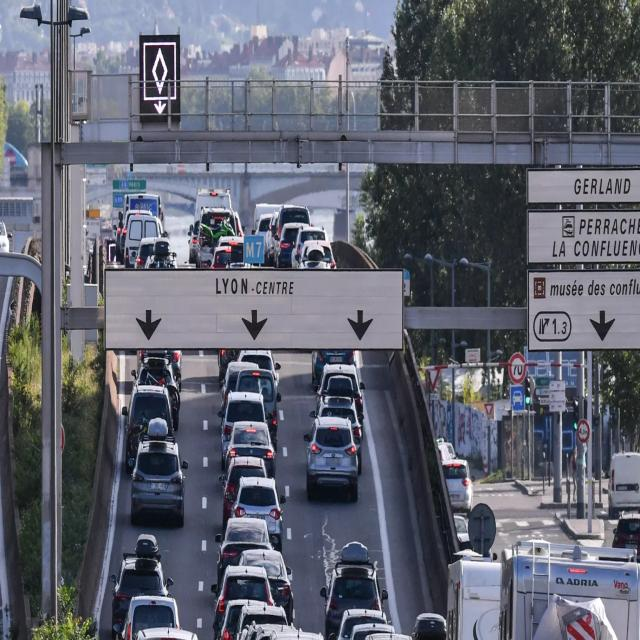direction: (99, 260, 408, 355), (524, 266, 640, 356), (530, 210, 640, 268), (522, 168, 640, 206)
priority: (140, 36, 177, 105)
speed_70: (509, 351, 530, 382)
